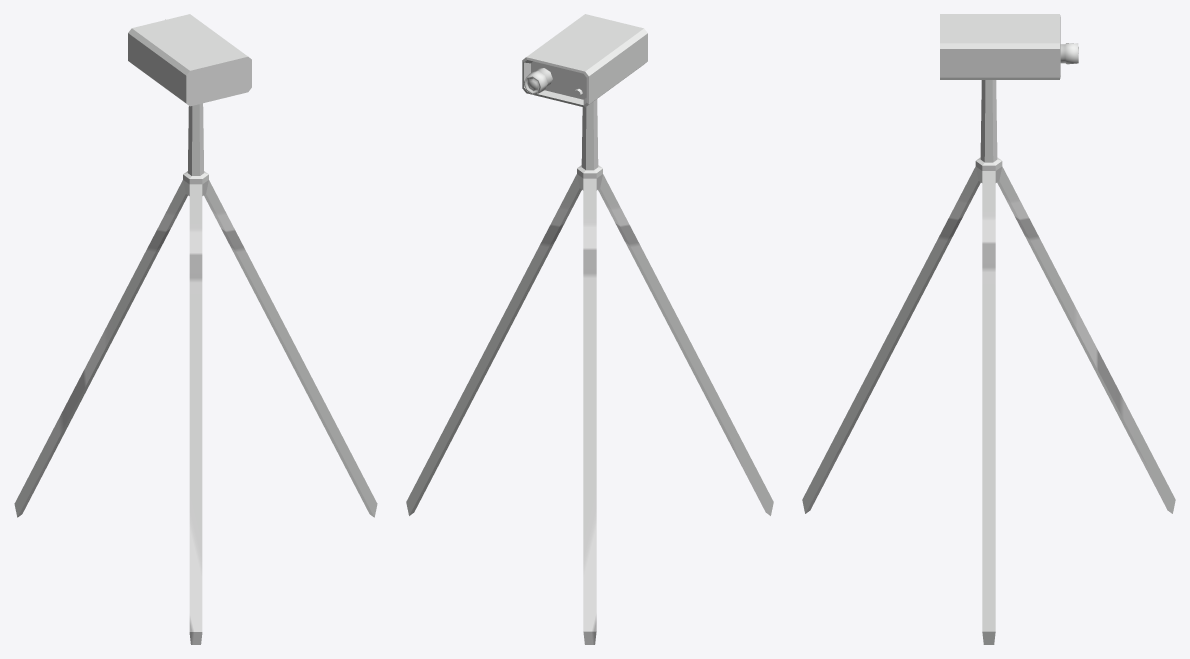
Rendered from CageFight_Camera.fbx.
3 renders of one model, left to right at view 1: azimuth 30°, elevation 25°; view 2: azimuth 150°, elevation 25°; view 3: azimuth 270°, elevation 25°, orthographic. The views are drawn at different scales.
Parts seen in each view (by area): view 1: Statyw, kamera; view 2: Statyw, kamera; view 3: Statyw, kamera.
Boxes of the visible parts, left/top/right/bottom form: Statyw: left=14, top=103, right=377, bottom=644; kamera: left=128, top=14, right=251, bottom=106; Statyw: left=406, top=99, right=773, bottom=644; kamera: left=522, top=14, right=647, bottom=107; Statyw: left=802, top=80, right=1175, bottom=644; kamera: left=940, top=14, right=1078, bottom=79.
Bounding box in the file's own units: 0.7824 × 1.41 × 0.9035.
